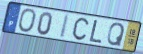0: (35, 11, 54, 37)
C: (71, 17, 90, 42)
I: (58, 13, 71, 40)
L: (88, 19, 104, 45)
O: (17, 8, 37, 34)
Q: (106, 22, 126, 48)
